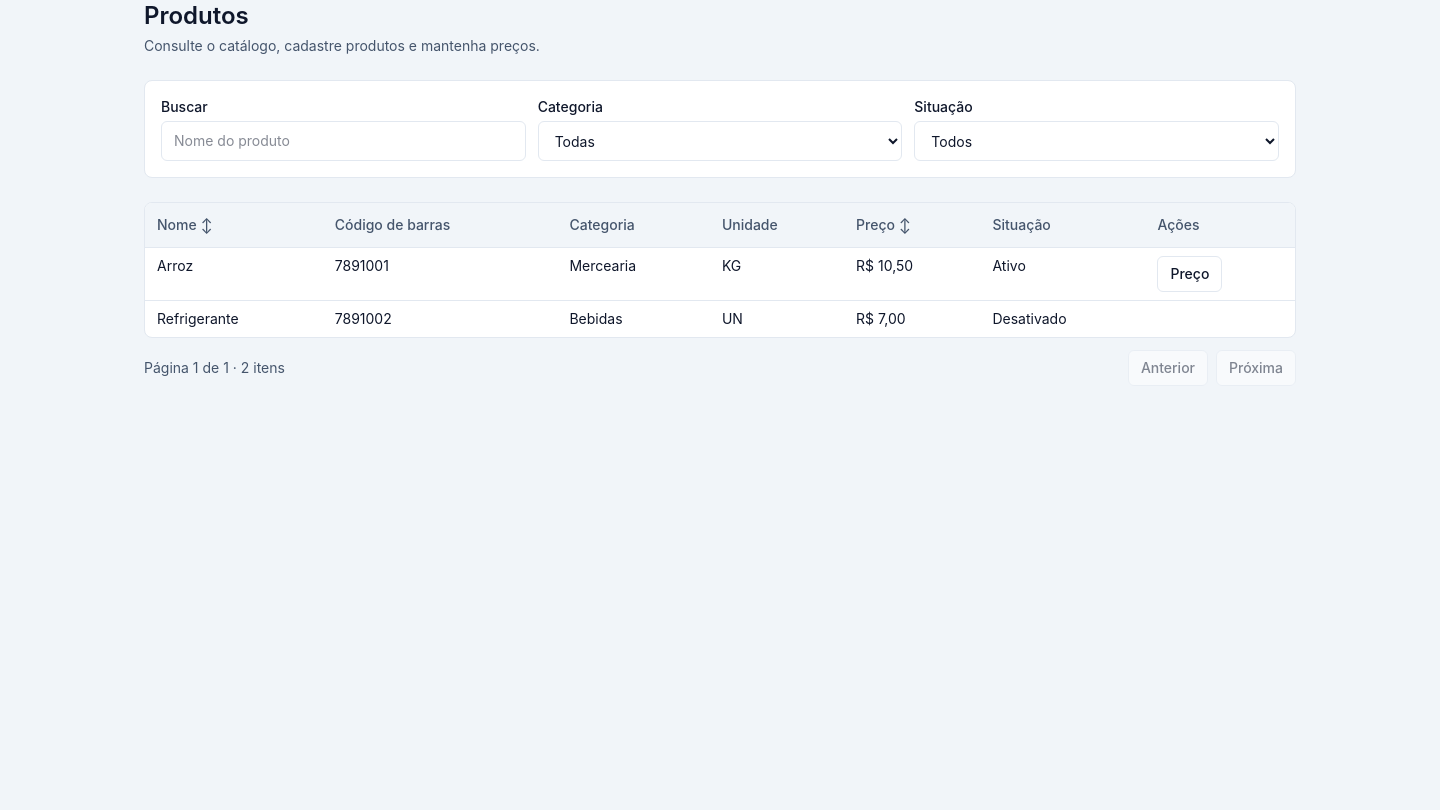
Scenario: ProductsPage — alteração de preço › manda o preço cru com motivo e sem If-Match
Expected: the cell "Arroz" is shown, [145, 248, 323, 300]
Click the button with aria-label "Alterar preço de Arroz" at (1190, 274), box [1158, 256, 1222, 292]
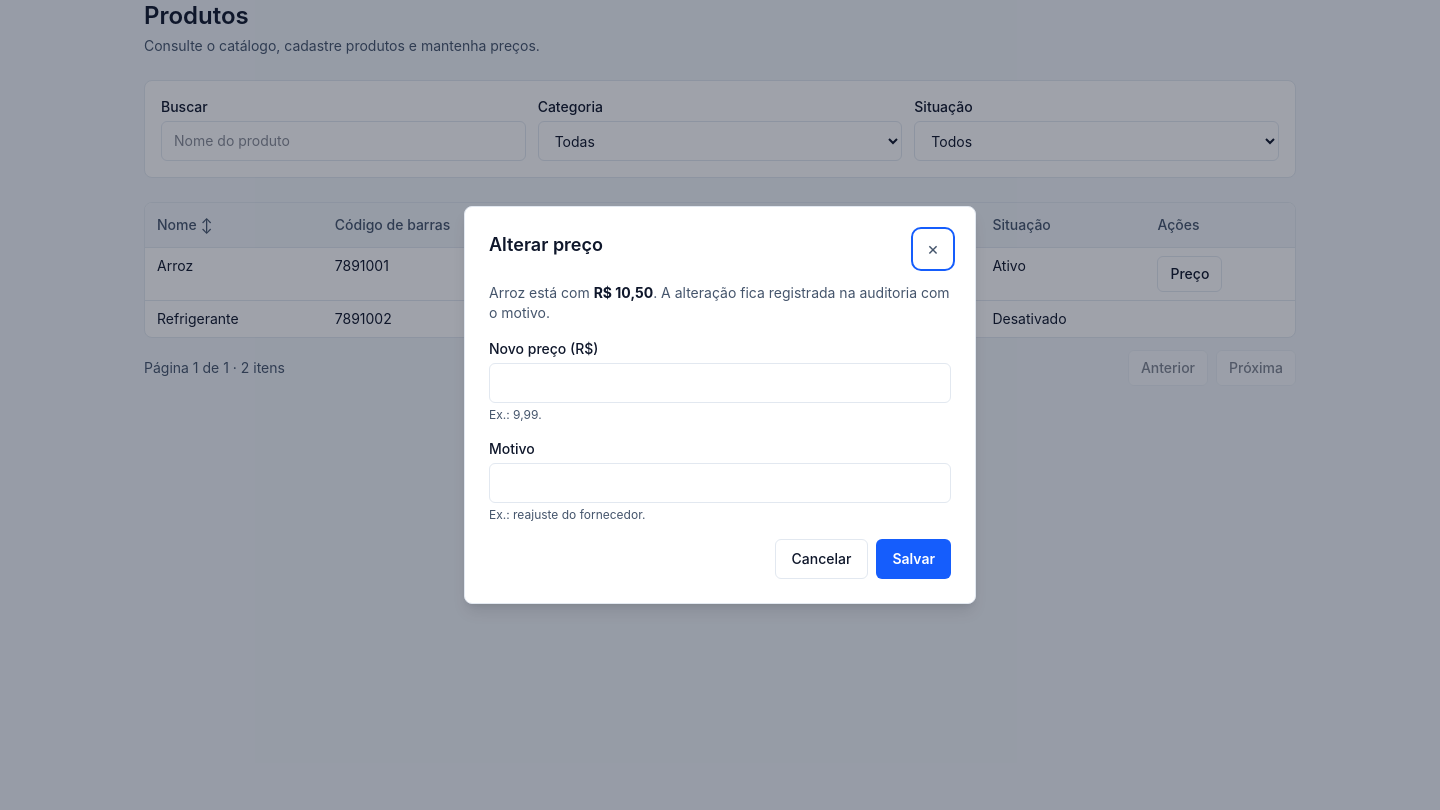
Now the text "R$ 10,50" is shown, box [594, 284, 653, 301]
Type "9,99" into the field labelled "Novo preço (R$)" at (720, 383), box [489, 363, 951, 403]
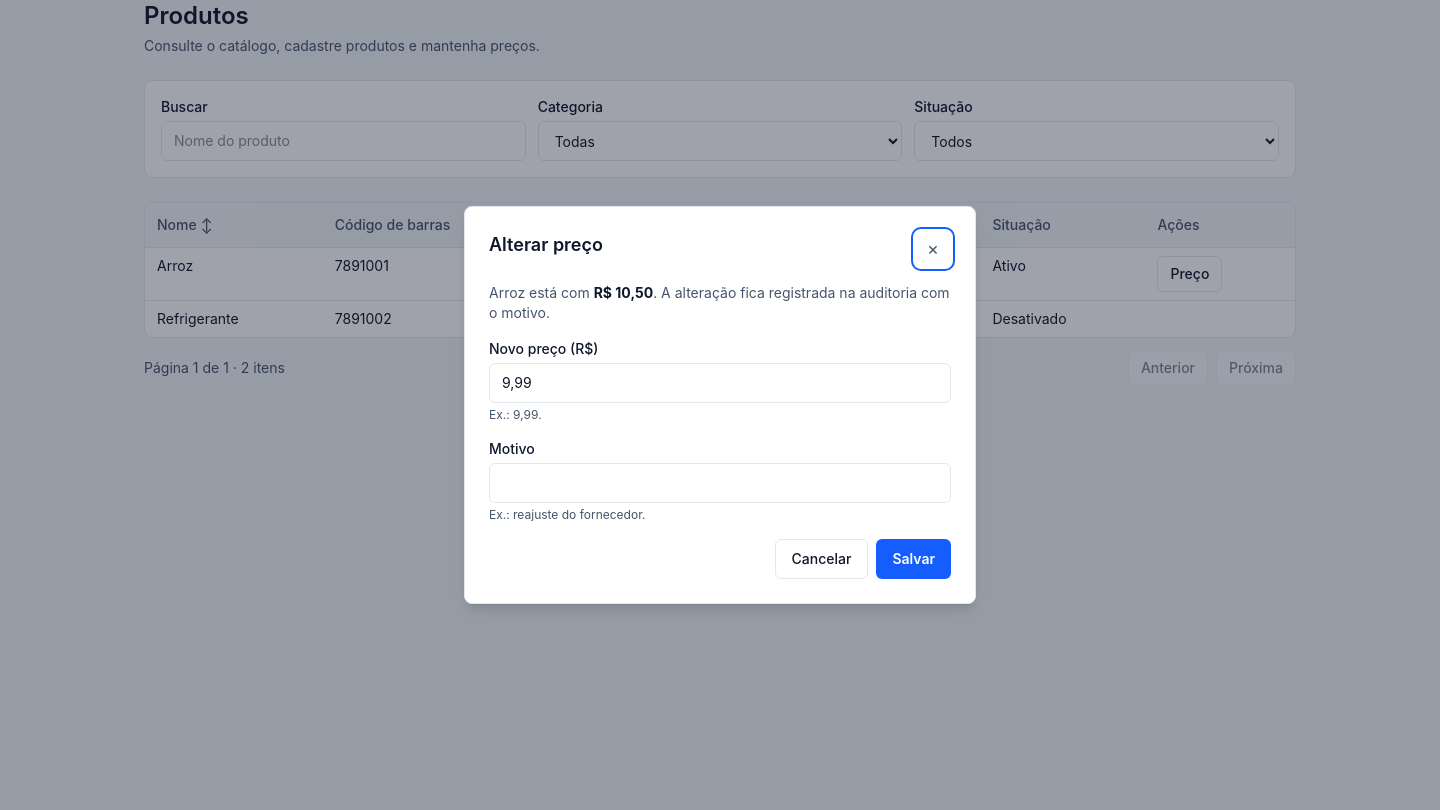
Type "Promoção" into the field labelled "Motivo" at (720, 483), box [489, 463, 951, 503]
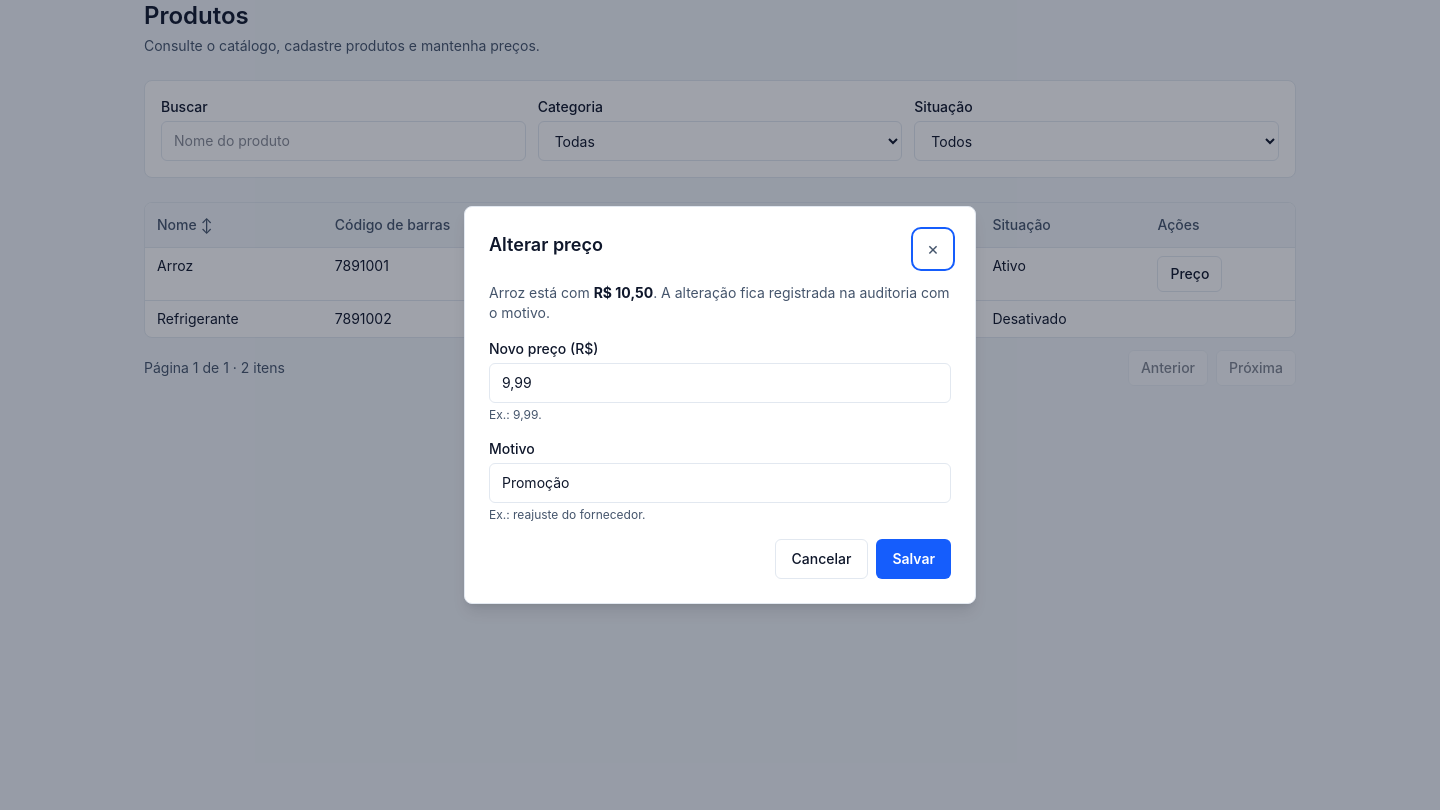
Click the button "Salvar" at (914, 559), box [876, 539, 951, 579]
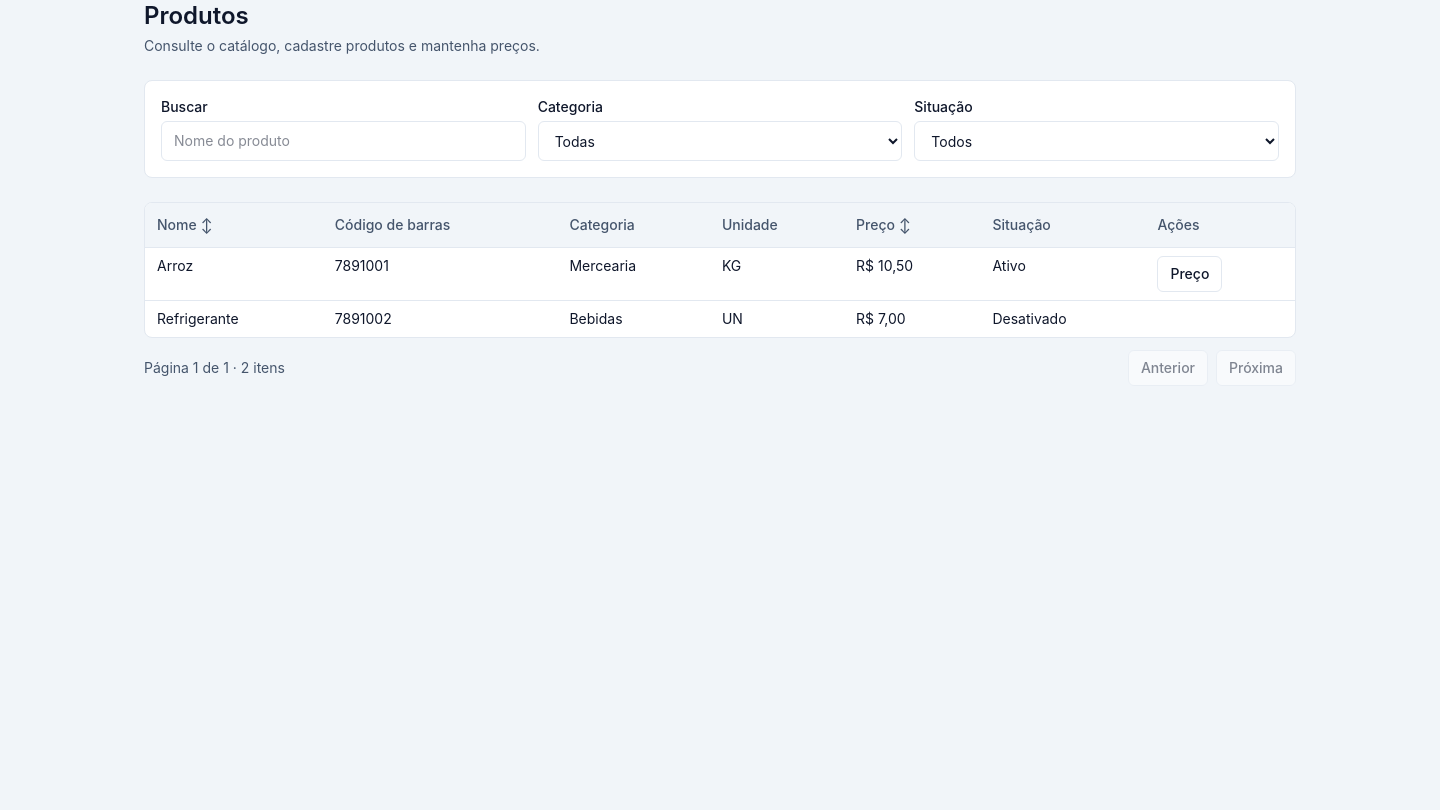
Now the dialog is gone
